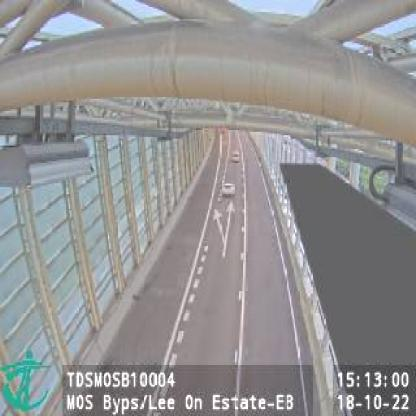Car: (221, 180, 236, 198), (231, 150, 241, 163)
